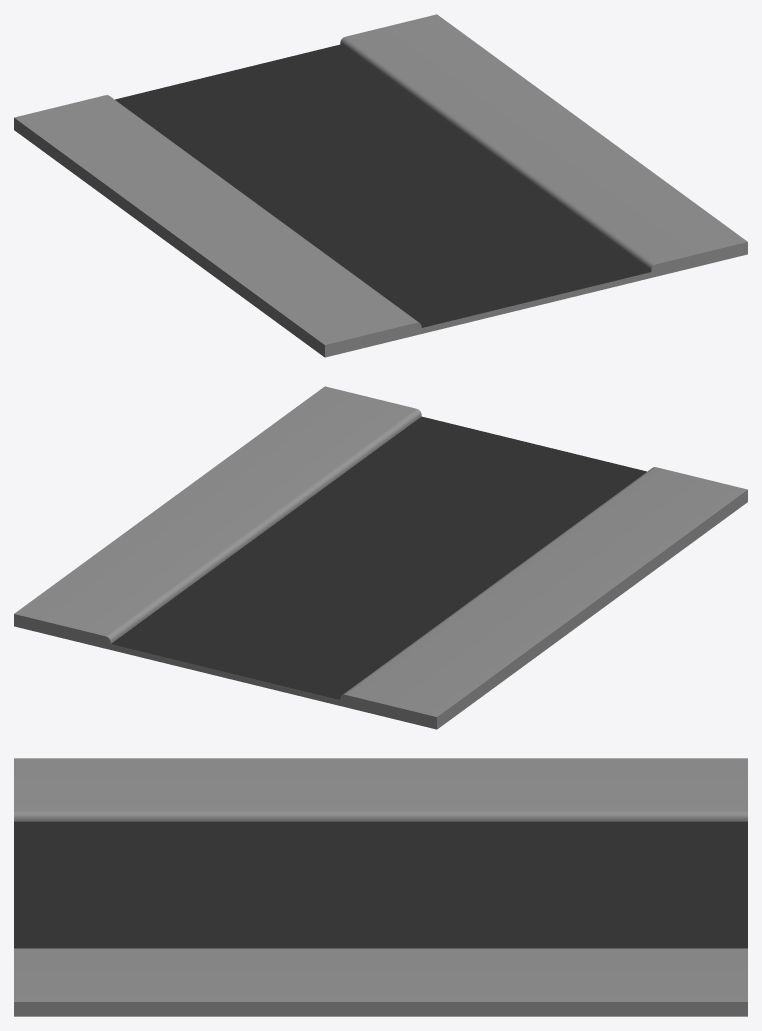
File: RoadStraight.FBX
The picture shows the model from 3 angles, top to bottom: view 1: azimuth 30°, elevation 25°; view 2: azimuth 150°, elevation 25°; view 3: azimuth 270°, elevation 25°; orthographic projection. The views are drawn at different scales.
Visible parts, largest first — view 1: Box001; view 2: Box001; view 3: Box001.
Boxes of the visible parts, x1,y1,x2,y2 form: Box001: (14, 14, 747, 357); Box001: (14, 386, 747, 729); Box001: (14, 758, 747, 1016).
Size of the model in its own units: 109 by 3.08 by 139.
Materials: 7 (2 with a texture image).
